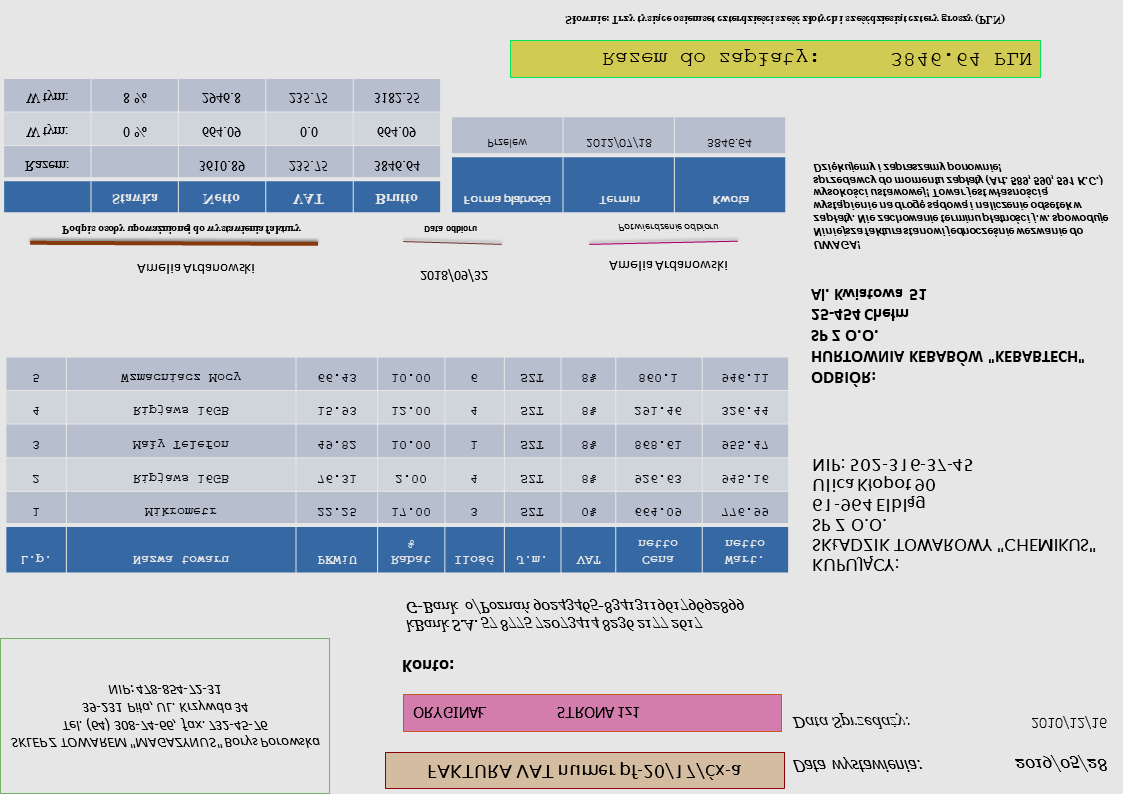Table: (3, 356, 790, 575), (2, 78, 440, 215), (450, 116, 786, 214)
TextBox: (808, 455, 1099, 576), (809, 285, 1088, 389), (810, 161, 1111, 253), (9, 682, 322, 752), (403, 596, 748, 635), (600, 47, 1033, 69), (425, 760, 744, 783), (563, 12, 1006, 28), (412, 703, 642, 722), (59, 222, 301, 238), (791, 754, 923, 778), (790, 712, 912, 732), (1012, 753, 1109, 775), (135, 260, 256, 277), (607, 259, 729, 273), (615, 221, 721, 235), (1029, 715, 1108, 732), (418, 267, 489, 284), (400, 656, 454, 676), (421, 223, 477, 236)
